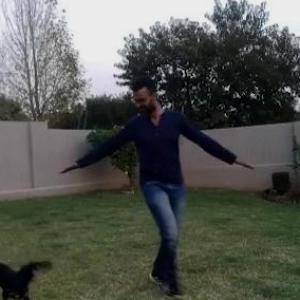land: (56, 79, 229, 272)
